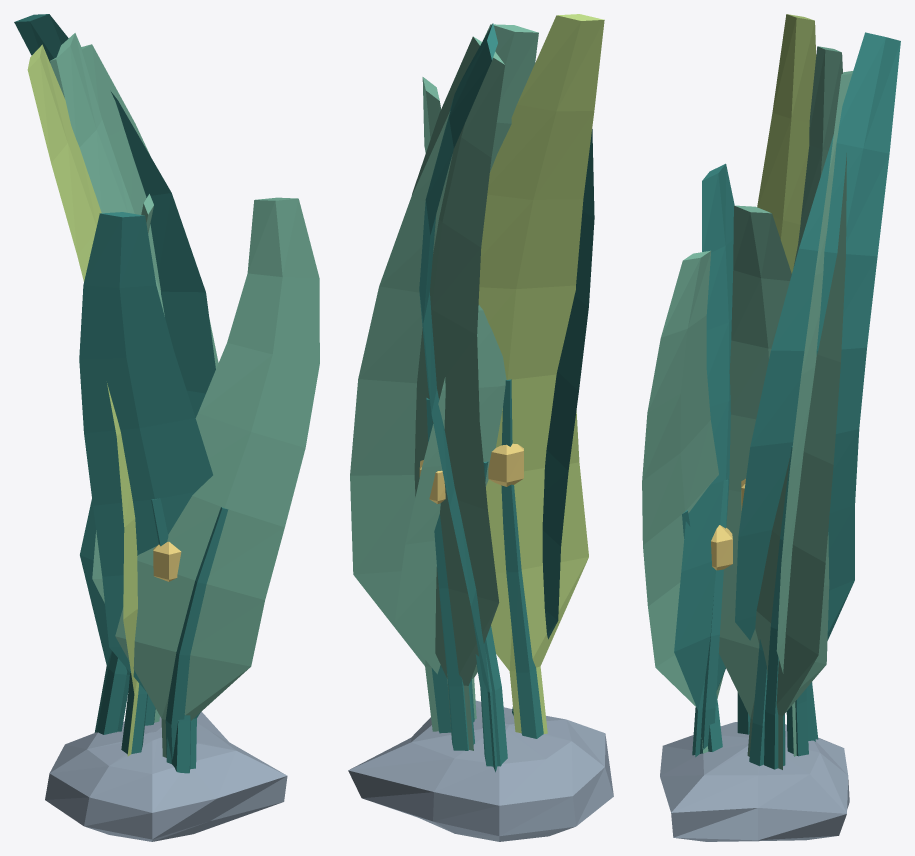
The model's file is kelp_medium.glb.
3 views of the same model, side by side, from view 1: azimuth 30°, elevation 25°; view 2: azimuth 150°, elevation 25°; view 3: azimuth 270°, elevation 25° (orthographic). The views are drawn at different scales.
Visible parts, largest first — view 1: DL007_KelpMedium_kelp_mid, DL007_KelpMedium_kelp_deep, DL007_KelpMedium_stone_blue, DL007_KelpMedium_kelp_lime, DL007_KelpMedium_kelp_gold; view 2: DL007_KelpMedium_kelp_mid, DL007_KelpMedium_kelp_lime, DL007_KelpMedium_kelp_deep, DL007_KelpMedium_stone_blue, DL007_KelpMedium_kelp_gold; view 3: DL007_KelpMedium_kelp_mid, DL007_KelpMedium_kelp_deep, DL007_KelpMedium_stone_blue, DL007_KelpMedium_kelp_lime, DL007_KelpMedium_kelp_gold.
Boxes of the visible parts, <box> form: DL007_KelpMedium_kelp_mid: <box>50,33,319,757</box>; DL007_KelpMedium_kelp_deep: <box>14,14,228,773</box>; DL007_KelpMedium_stone_blue: <box>45,711,287,841</box>; DL007_KelpMedium_kelp_lime: <box>27,44,138,756</box>; DL007_KelpMedium_kelp_gold: <box>153,541,181,581</box>; DL007_KelpMedium_kelp_mid: <box>350,24,538,750</box>; DL007_KelpMedium_kelp_lime: <box>478,14,604,733</box>; DL007_KelpMedium_kelp_deep: <box>419,23,594,772</box>; DL007_KelpMedium_stone_blue: <box>348,700,613,841</box>; DL007_KelpMedium_kelp_gold: <box>419,443,523,503</box>; DL007_KelpMedium_kelp_mid: <box>642,46,852,769</box>; DL007_KelpMedium_kelp_deep: <box>674,32,900,769</box>; DL007_KelpMedium_stone_blue: <box>660,722,849,841</box>; DL007_KelpMedium_kelp_lime: <box>757,14,816,273</box>; DL007_KelpMedium_kelp_gold: <box>711,478,745,570</box>.
Bounding box in the file's own units: 1.23 × 4.02 × 1.23.
